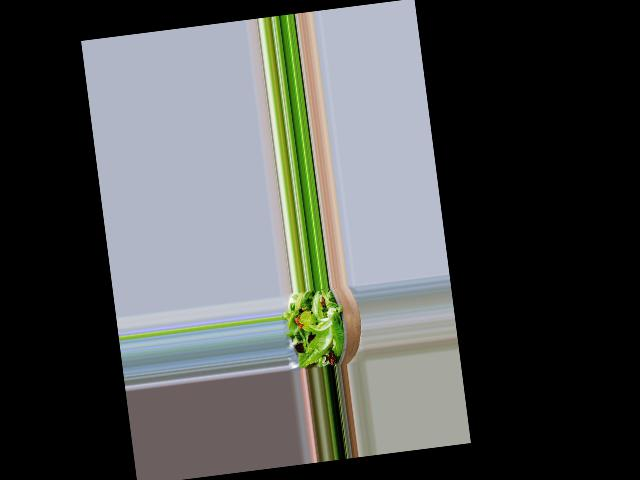lettuce: (284, 291, 347, 363)
